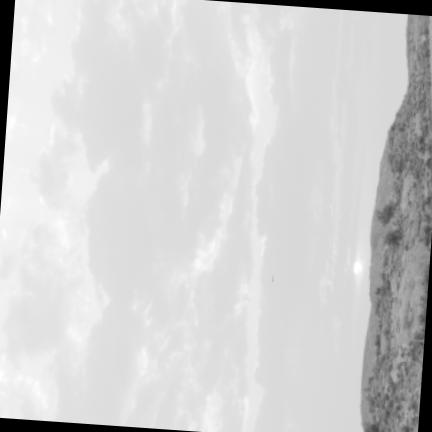Shahed: (271, 274, 273, 280)
